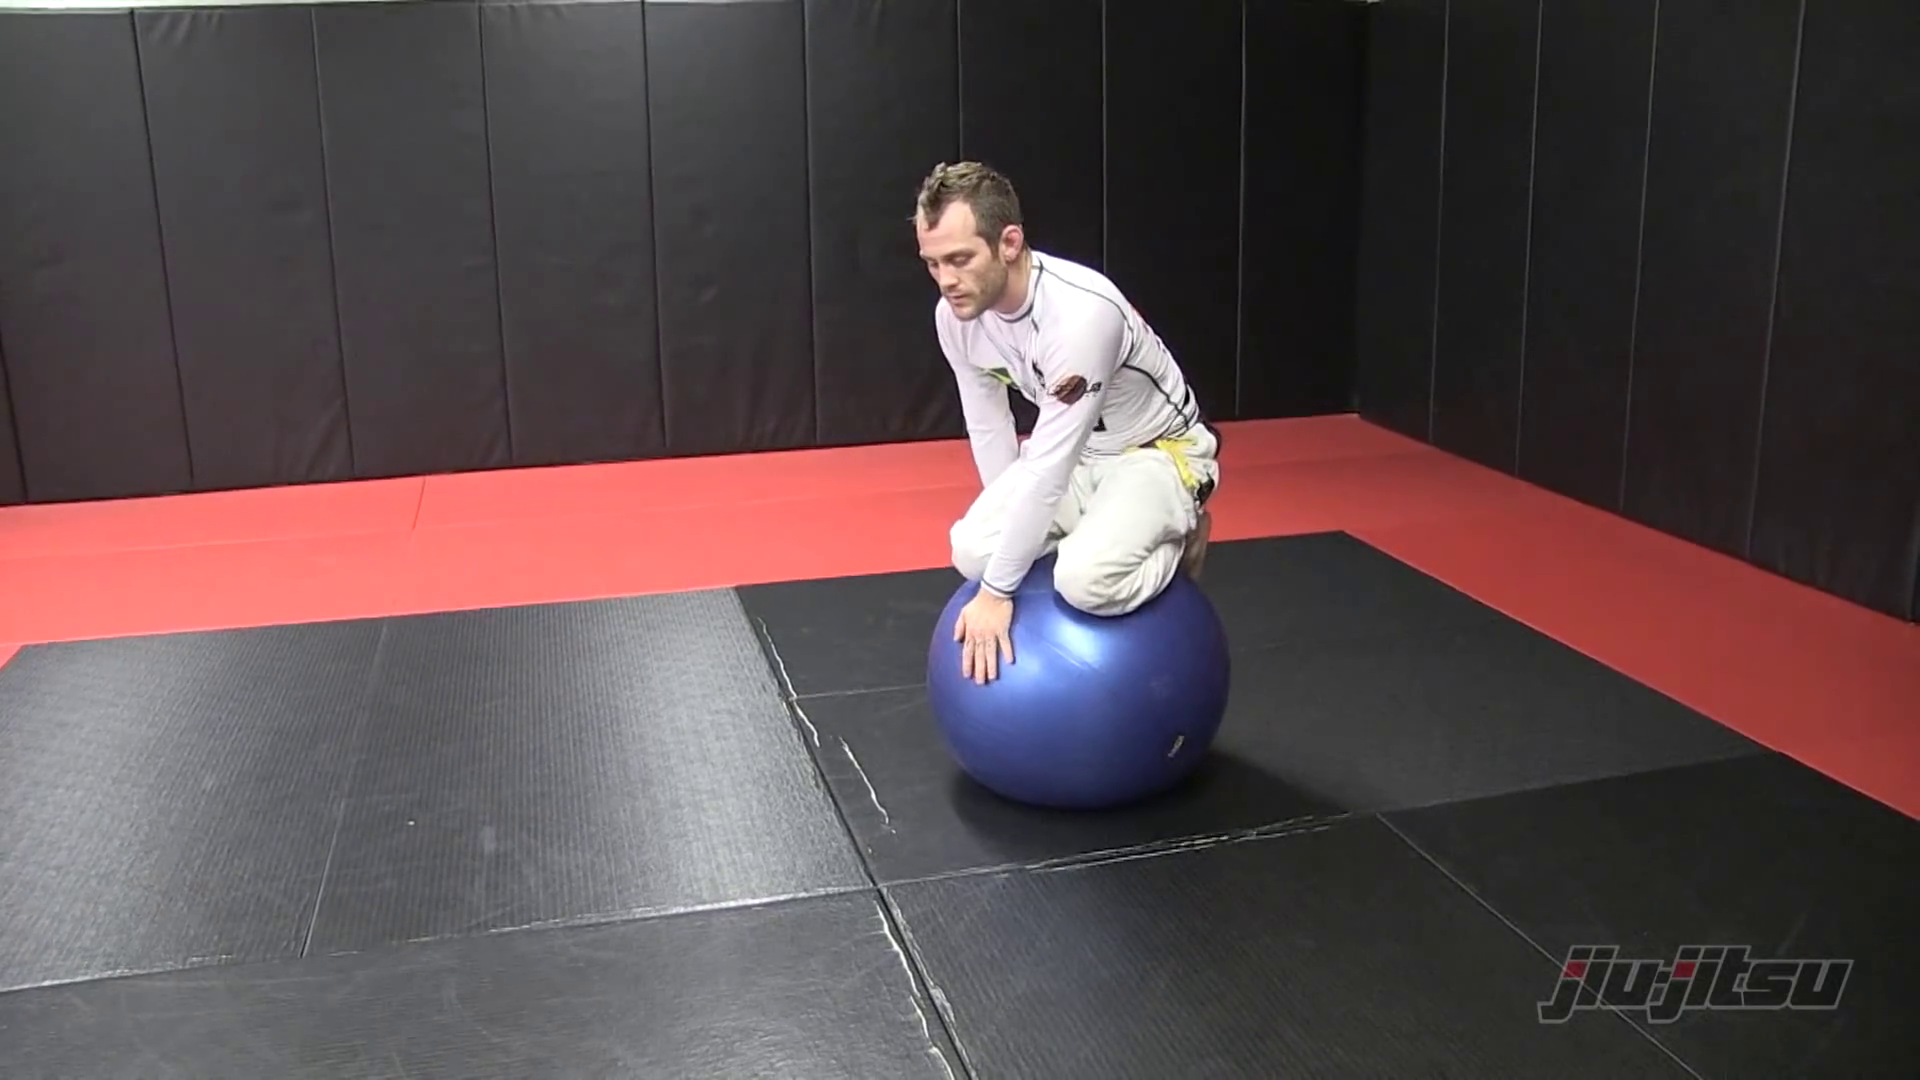yogaball: (914, 562, 1246, 819)
